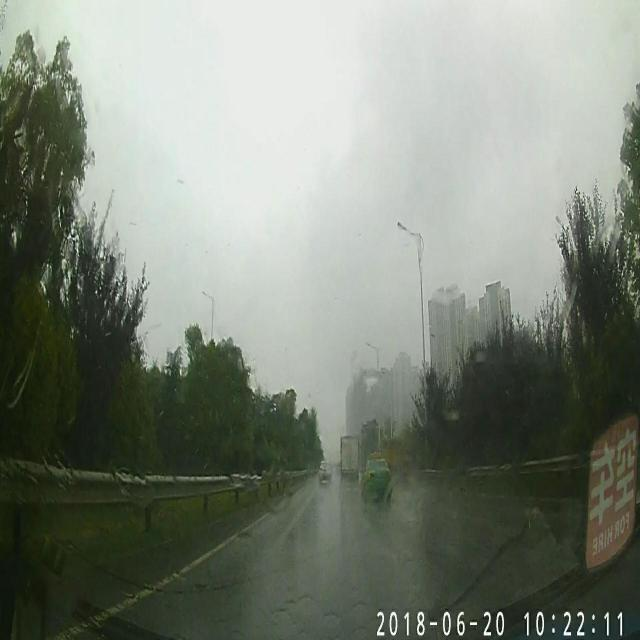car: (363, 458, 391, 500), (340, 433, 360, 484), (319, 458, 332, 482)
